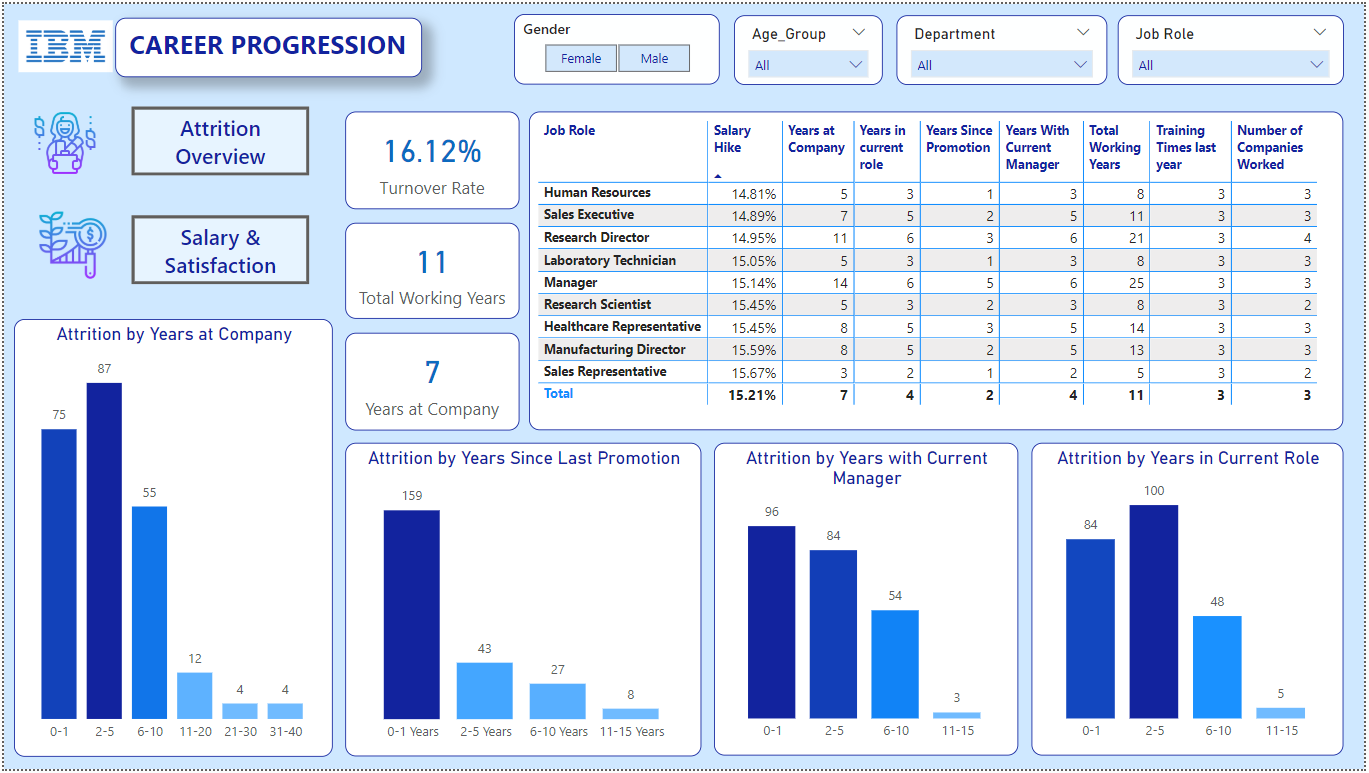

The dashboard page shown, as its layout file describes it:
{"tool":"powerbi","page":{"name":"Career Progression","canvas":[1280,720],"ordinal":2},"visuals":[{"type":"clusteredColumnChart","title":"Attrition by Years at Company","fields":{"Category":["experience.years_at_company"],"Y":["Measures (2).Total Attrition"]},"box":[9.3,296.5,300,411.6],"z":0},{"type":"clusteredColumnChart","title":"Attrition by Years in Current Role","fields":{"Category":["experience.years_in_current_role"],"Y":["Measures (2).Total Attrition"]},"box":[967.3,413.3,293.5,294.7],"z":1000},{"type":"clusteredColumnChart","title":"Attrition by Years Since Last Promotion","fields":{"Category":["experience.years_since_last_promotion"],"Y":["Measures (2).Total Attrition"]},"box":[320.9,412.8,334.9,295.3],"z":2000},{"type":"clusteredColumnChart","title":"Attrition by Years with Current Manager","fields":{"Category":["experience.years_with_current_manager"],"Y":["Measures (2).Total Attrition"]},"box":[668,413.3,286.1,294.7],"z":3000},{"type":"image","box":[0,10,115.7,58.6],"z":4000},{"type":"pivotTable","fields":{"Rows":["job.Job Role"],"Values":["Measures (2).Salary Hike","Measures (2).Years at Company","Measures (2).Years in current role","Measures (2).Years Since Promotion","Measures (2).Years With Current Manager","Measures (2).Total Working Years","Measures (2).Training Times last year","Measures (2).Number of Companies Worked"]},"box":[494.2,101.2,766.3,300],"z":5000},{"type":"slicer","fields":{"Values":["work.Department"]},"box":[840,10,198.6,65.7],"z":6000},{"type":"slicer","fields":{"Values":["job.JobRole"]},"box":[1048.6,10,212.9,65.7],"z":7000},{"type":"slicer","fields":{"Values":["employee.Age_Group"]},"box":[687.1,10,140,65.7],"z":8000},{"type":"slicer","title":"Gender","fields":{"Values":["employee.Gender"]},"box":[480.6,9.8,193.2,66],"z":9000},{"type":"textbox","box":[104.3,12.9,288.6,55.7],"z":11000},{"type":"card","fields":{"Values":["Measures (2).Years at Company"]},"box":[320.9,309.3,164,91.9],"z":12000},{"type":"card","fields":{"Values":["Measures (2).Total Working Years"]},"box":[320.9,205.8,164,90.7],"z":13000},{"type":"card","fields":{"Values":["Measures (2).Turnover Rate"]},"box":[320.9,101.2,164,91.9],"z":14000},{"type":"image","box":[14.2,191.2,102.3,73.3],"z":14001},{"type":"actionButton","box":[120,199.3,167.4,65.1],"z":14002},{"type":"actionButton","box":[119.8,96.5,167.4,65.1],"z":14003},{"type":"image","box":[9.3,96.5,95.3,68.6],"z":14004}]}

Visuals, with their boxes in screenshot pixels (x1, y1, x2, y2), scaled from the page's 1280x720 canvas onto the 1369x773 screenshot:
"Attrition by Years at Company" clusteredColumnChart: {"left": 10, "top": 318, "right": 331, "bottom": 760}
"Attrition by Years in Current Role" clusteredColumnChart: {"left": 1035, "top": 444, "right": 1348, "bottom": 760}
"Attrition by Years Since Last Promotion" clusteredColumnChart: {"left": 343, "top": 443, "right": 701, "bottom": 760}
"Attrition by Years with Current Manager" clusteredColumnChart: {"left": 714, "top": 444, "right": 1020, "bottom": 760}
image: {"left": 0, "top": 11, "right": 124, "bottom": 74}
pivotTable - job.Job Role x Measures (2).Salary Hike: {"left": 529, "top": 109, "right": 1348, "bottom": 431}
slicer - work.Department: {"left": 898, "top": 11, "right": 1111, "bottom": 81}
slicer - job.JobRole: {"left": 1122, "top": 11, "right": 1349, "bottom": 81}
slicer - employee.Age_Group: {"left": 735, "top": 11, "right": 885, "bottom": 81}
"Gender" slicer: {"left": 514, "top": 11, "right": 721, "bottom": 81}
textbox: {"left": 112, "top": 14, "right": 420, "bottom": 74}
card - Measures (2).Years at Company: {"left": 343, "top": 332, "right": 519, "bottom": 431}
card - Measures (2).Total Working Years: {"left": 343, "top": 221, "right": 519, "bottom": 318}
card - Measures (2).Turnover Rate: {"left": 343, "top": 109, "right": 519, "bottom": 207}
image: {"left": 15, "top": 205, "right": 125, "bottom": 284}
actionButton: {"left": 128, "top": 214, "right": 307, "bottom": 284}
actionButton: {"left": 128, "top": 104, "right": 307, "bottom": 173}
image: {"left": 10, "top": 104, "right": 112, "bottom": 177}
